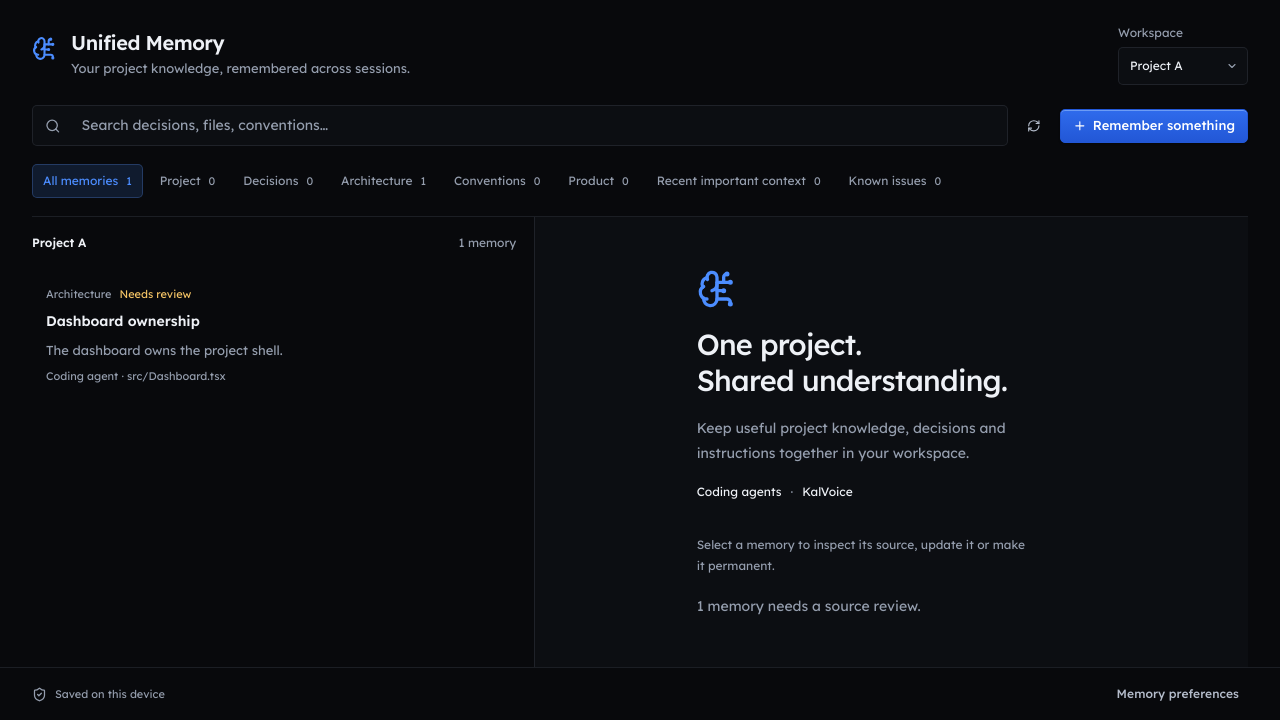
Unified Memory › refreshes incoming knowledge while preserving an in-progress edit
Click the button "Dashboard ownership". click: click(79, 294)
box: [32, 269, 518, 402]
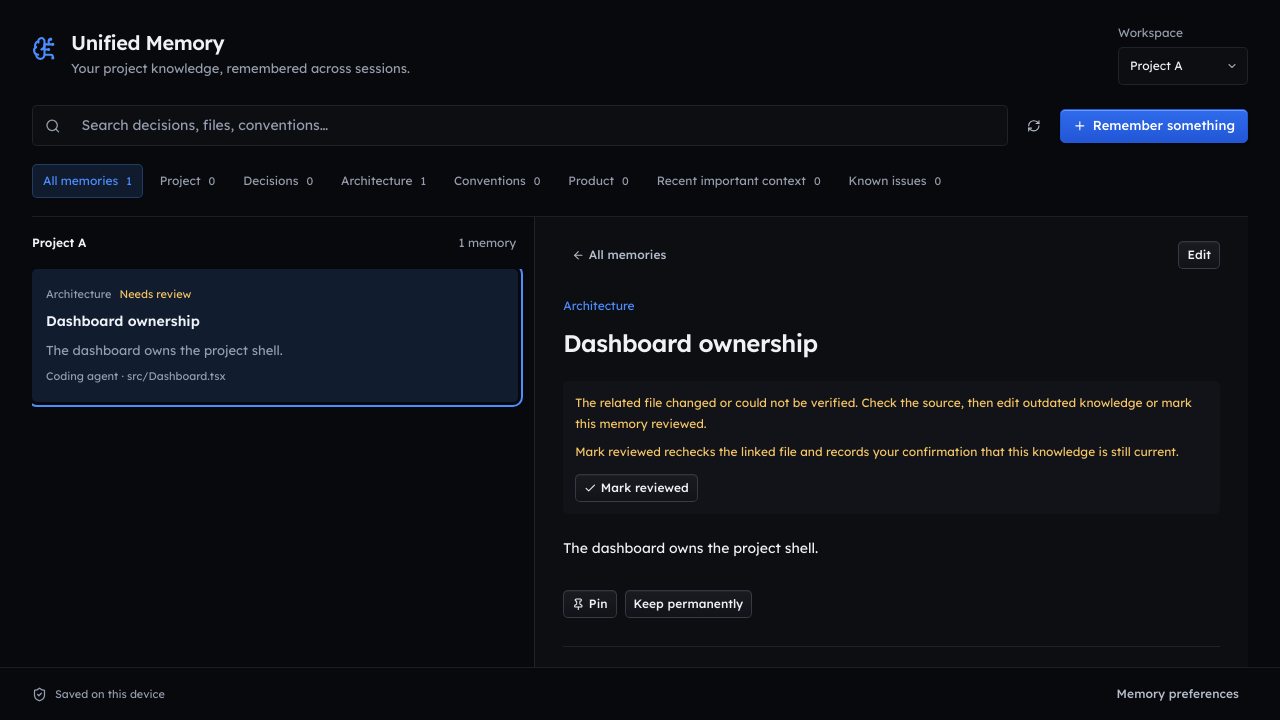
Click the button "Edit". click: click(1199, 255)
box: [1178, 241, 1220, 269]
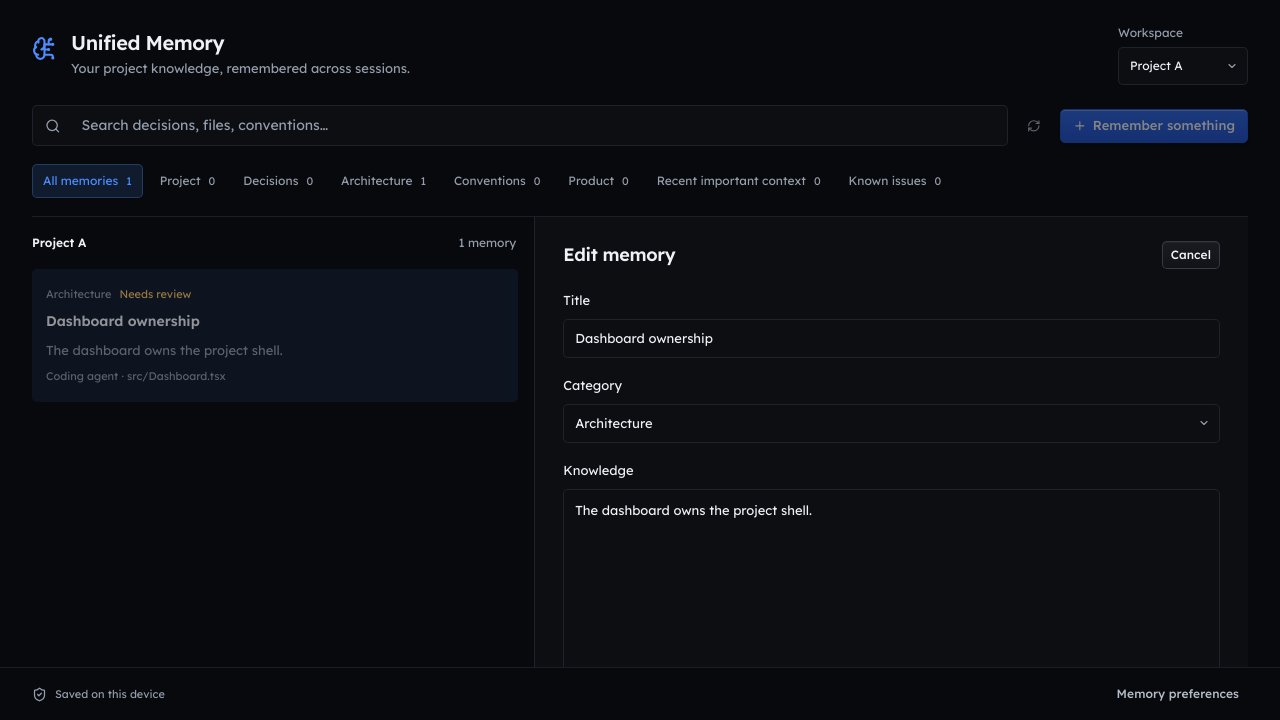
Now the text box labelled "Knowledge" holds "The dashboard owns the project shell.", box [563, 488, 1220, 667]
